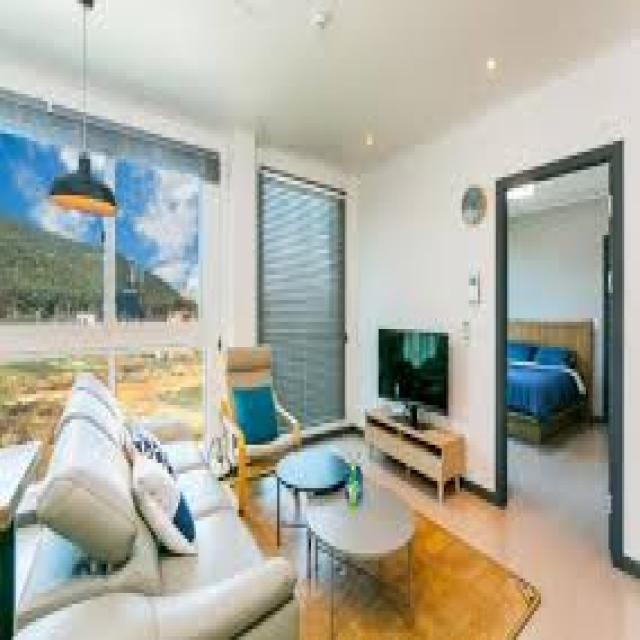Chair: (223, 342, 302, 499)
Sofa: (28, 358, 287, 639)
Table: (274, 448, 424, 625)
tv: (374, 326, 450, 416)
window: (3, 100, 212, 439)
